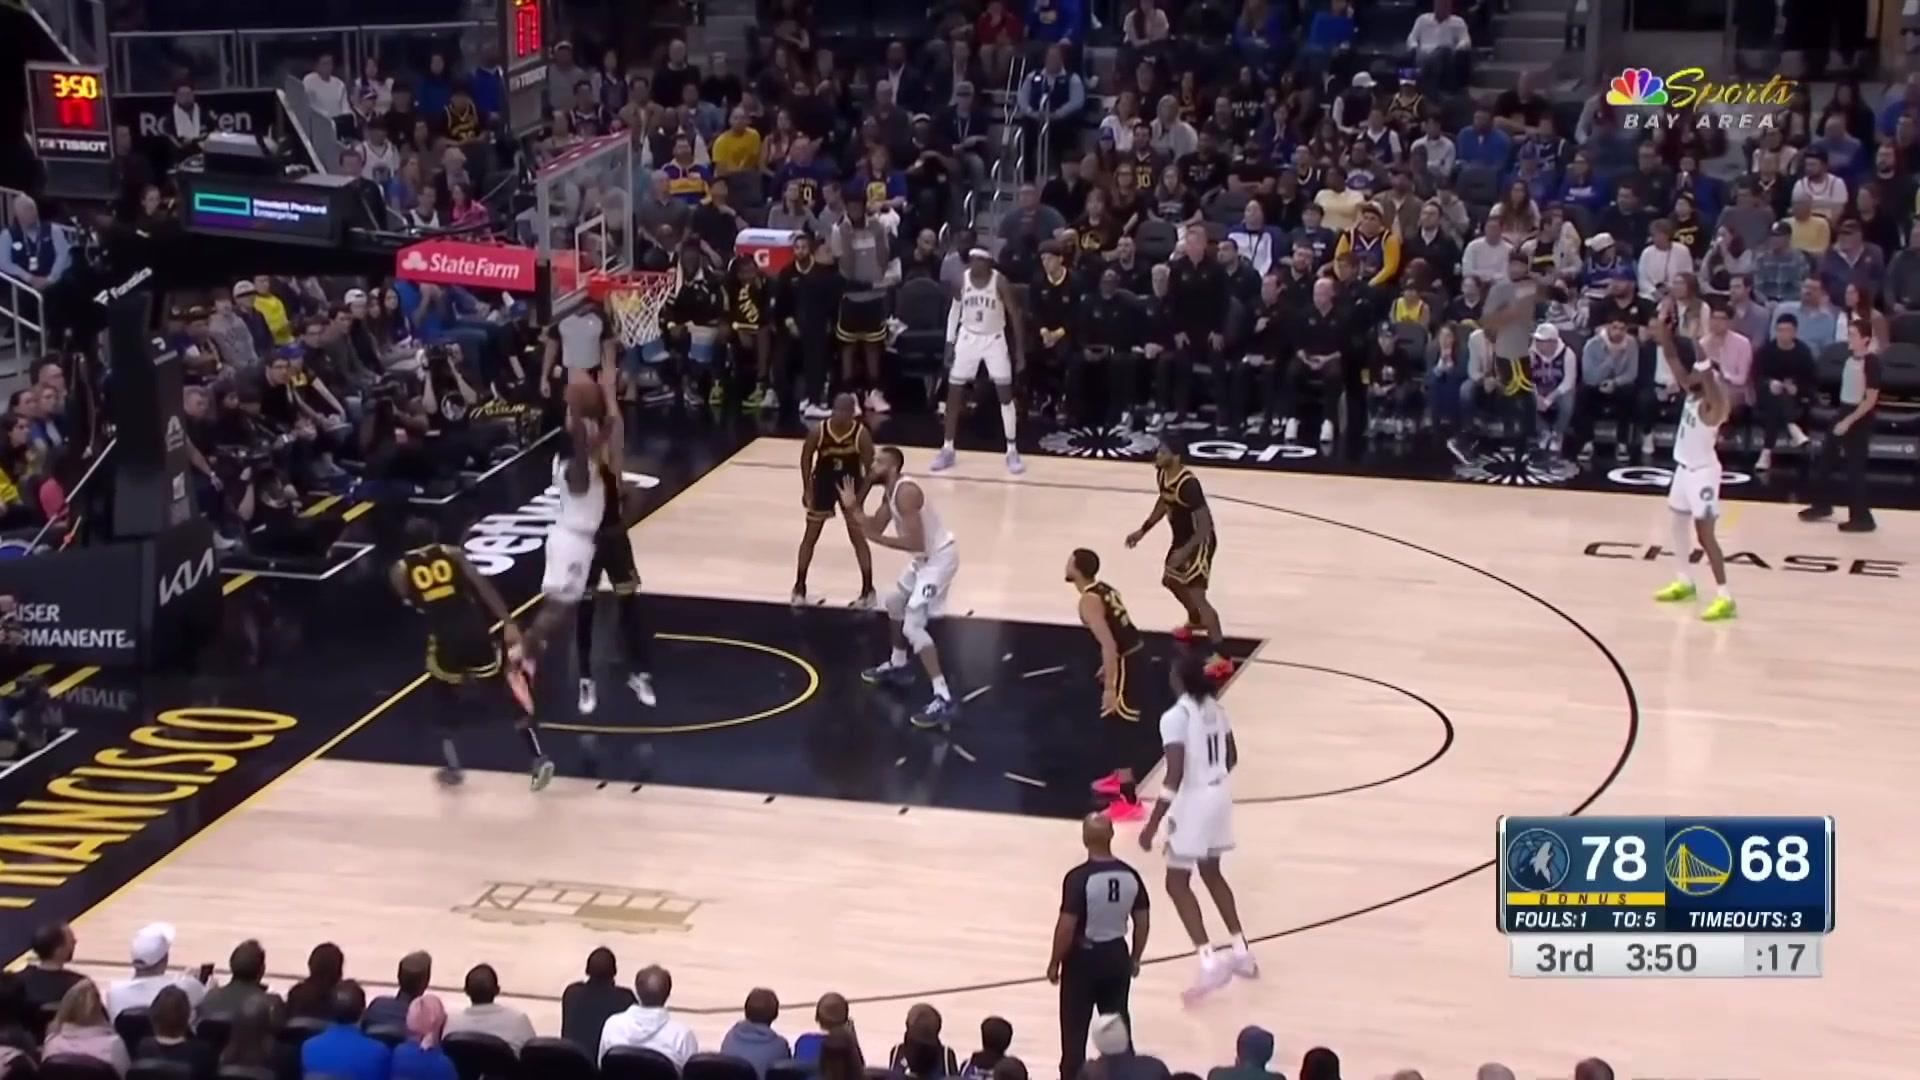foul: (524, 336, 688, 748)
